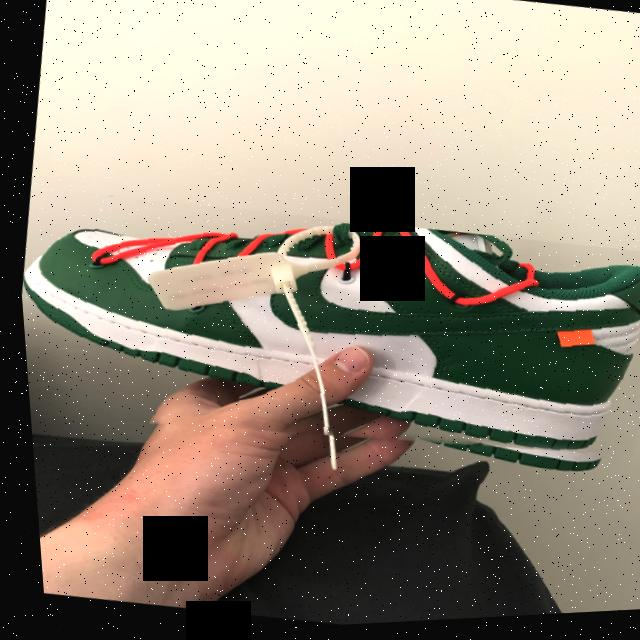shoe: (11, 162, 640, 511)
